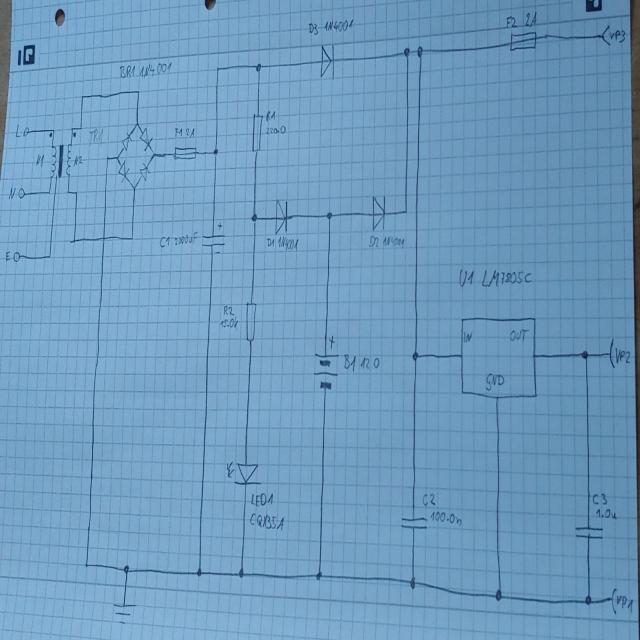capacitor: (201, 220, 226, 255), (572, 522, 604, 542), (399, 514, 428, 531)
crossover: (101, 233, 106, 242)
diode: (226, 459, 262, 486), (273, 196, 289, 235), (319, 41, 335, 80), (371, 192, 386, 232), (138, 128, 152, 150), (120, 131, 134, 152), (117, 162, 130, 184), (138, 163, 150, 181)
ground: (112, 600, 136, 624)
junction: (493, 586, 502, 602), (583, 592, 592, 606), (415, 43, 423, 58), (402, 44, 410, 58), (409, 574, 416, 590), (122, 562, 130, 575), (411, 349, 419, 361), (250, 211, 258, 223), (580, 348, 588, 360), (254, 61, 262, 73), (83, 558, 90, 570), (316, 569, 323, 581), (238, 566, 245, 578), (212, 146, 218, 157), (326, 210, 332, 220), (196, 567, 202, 577), (114, 153, 120, 162), (134, 120, 140, 128), (131, 183, 136, 192), (70, 237, 76, 244), (135, 87, 140, 95), (46, 188, 51, 196), (215, 64, 220, 72), (151, 150, 156, 158), (65, 188, 70, 195), (80, 92, 84, 100), (130, 234, 134, 242), (47, 252, 51, 260), (404, 207, 408, 214), (74, 189, 78, 196), (105, 154, 109, 161), (79, 125, 83, 131), (70, 125, 74, 131), (51, 127, 54, 132)
resistor: (250, 112, 264, 154), (244, 301, 256, 342)
source: (312, 334, 340, 390)
terminal: (600, 24, 611, 46), (609, 586, 617, 615), (608, 337, 615, 368), (12, 249, 21, 262), (17, 186, 25, 198), (22, 125, 29, 136)
text: (481, 267, 534, 289), (249, 510, 286, 532), (138, 60, 172, 78), (430, 509, 462, 526), (323, 18, 353, 34), (250, 490, 274, 507), (174, 230, 198, 246), (277, 235, 299, 252), (484, 371, 504, 389), (458, 266, 474, 288), (118, 61, 136, 80), (616, 594, 633, 613), (614, 345, 631, 364), (382, 234, 405, 248), (360, 355, 380, 371), (88, 126, 104, 145), (509, 327, 528, 342), (342, 352, 356, 372), (595, 507, 617, 519), (609, 28, 626, 43), (524, 10, 538, 28), (264, 124, 286, 135), (592, 491, 608, 505), (220, 316, 238, 328), (505, 14, 518, 29), (8, 184, 20, 200), (422, 492, 435, 506), (158, 234, 171, 248), (307, 21, 319, 36), (368, 233, 379, 249), (463, 328, 473, 345), (222, 303, 235, 316), (35, 151, 45, 167), (15, 123, 25, 138), (266, 107, 276, 122), (185, 126, 196, 138), (174, 125, 184, 138), (266, 235, 275, 249), (72, 154, 82, 166), (4, 249, 13, 262)
transformer: (46, 140, 74, 180)
